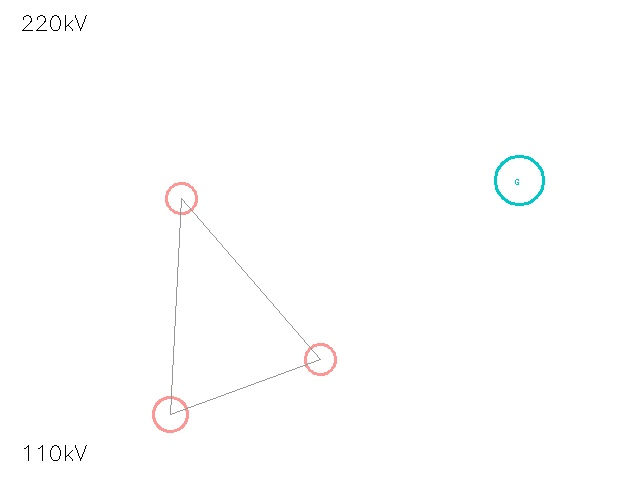generator: (495, 156, 543, 204)
reactor: (136, 380, 204, 448)
surge_arrester: (150, 167, 212, 229), (290, 329, 350, 389)
